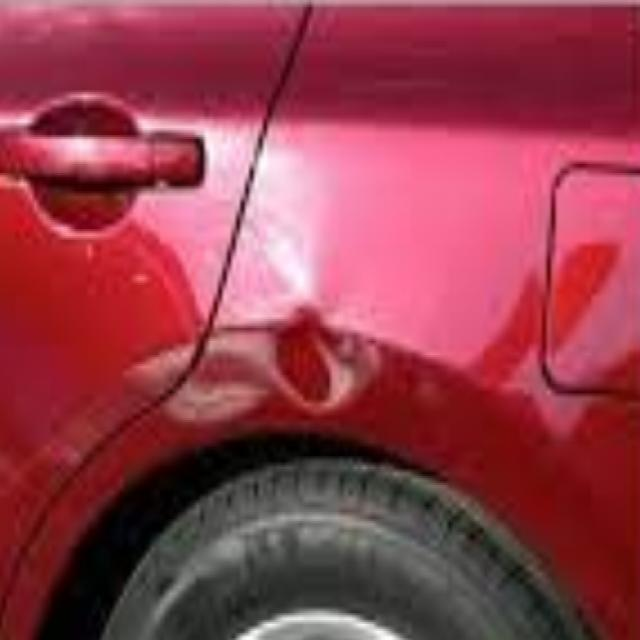dents: (265, 283, 386, 442)
